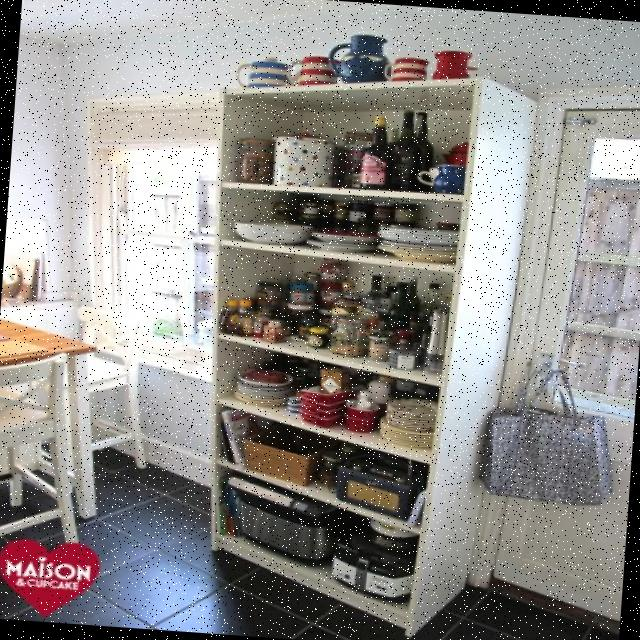Shelf: (175, 53, 543, 640)
